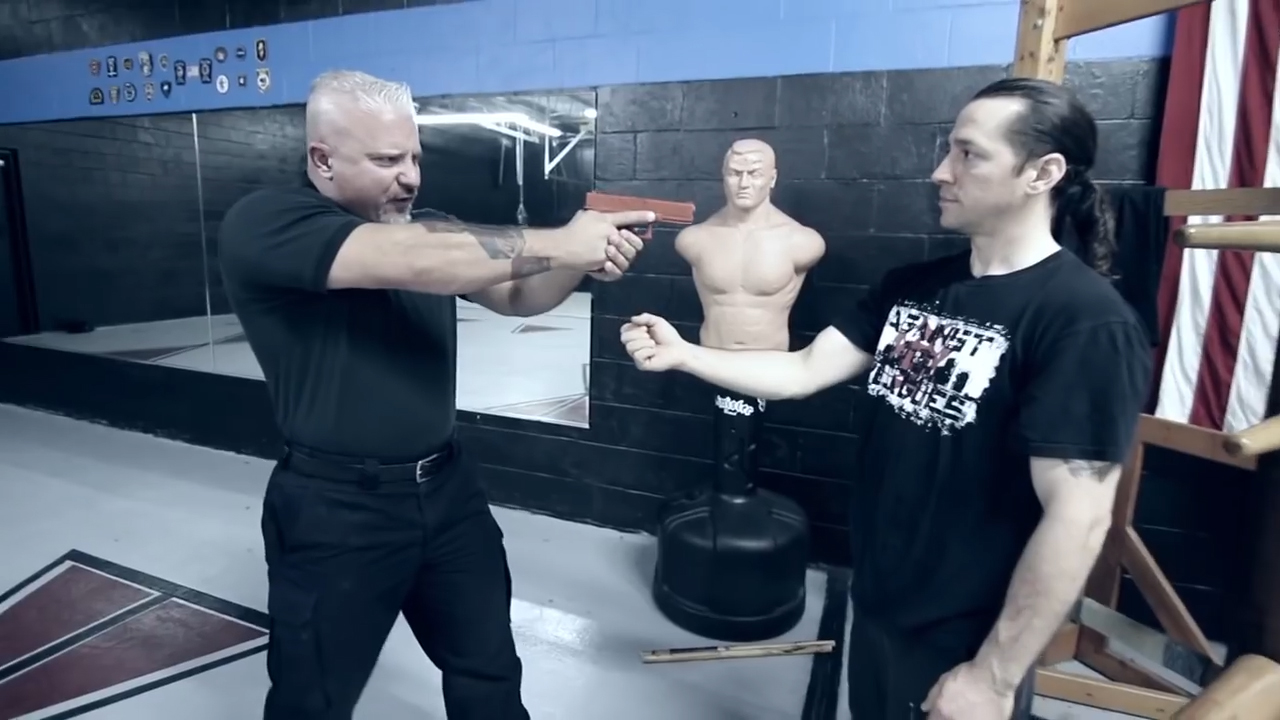pistol: (583, 189, 698, 242)
